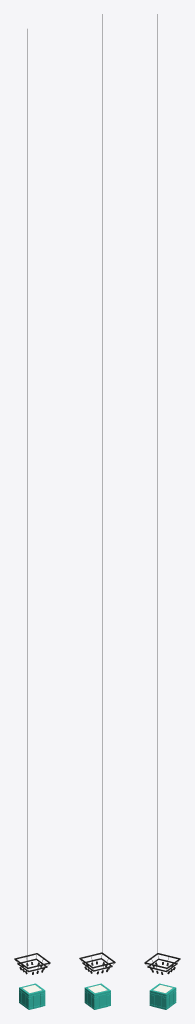
Rendered from STAND.fbx.
3 renders of one model, left to right at view 1: azimuth 30°, elevation 25°; view 2: azimuth 210°, elevation 25°; view 3: azimuth 330°, elevation 25°, orthographic.
Parts seen in each view (by area): view 1: PROVOD, Box027, KARKAS; view 2: PROVOD, Box027, KARKAS; view 3: PROVOD, Box027, KARKAS.
Boxes of the visible parts, x1,y1,x2,y2 form: PROVOD: (27, 29, 27, 967); Box027: (19, 983, 45, 1009); KARKAS: (14, 953, 50, 972); PROVOD: (102, 14, 102, 952); Box027: (84, 983, 110, 1009); KARKAS: (79, 952, 115, 971); PROVOD: (157, 14, 157, 952); Box027: (149, 983, 176, 1009); KARKAS: (144, 953, 180, 972).
Bounding box in the file's own units: 87.72 × 3589 × 87.55.
